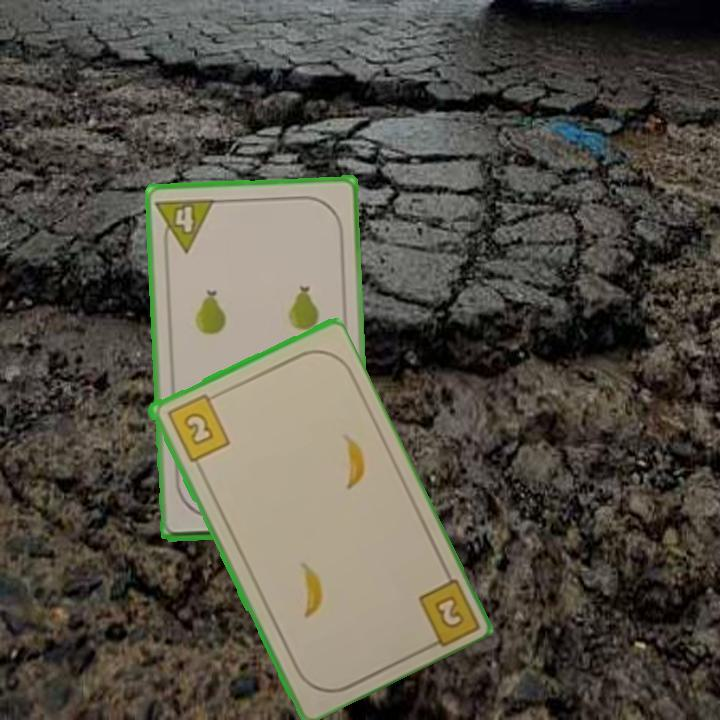2b: (163, 390, 233, 465), (430, 591, 467, 632)
4p: (152, 194, 218, 256)
